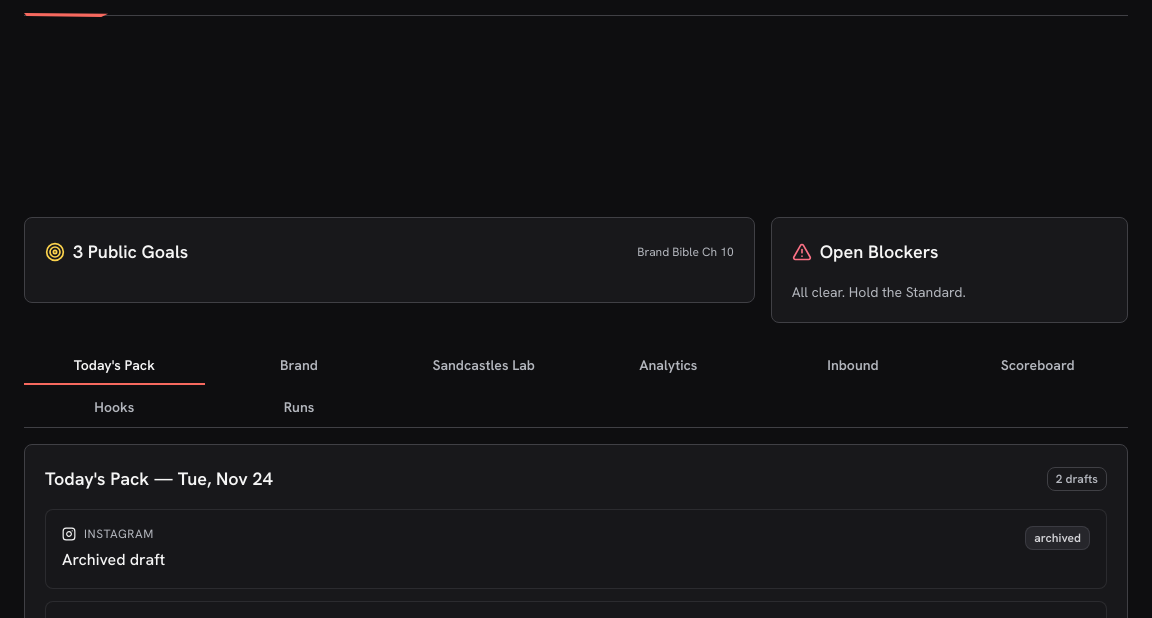
Test: automation dashboard recovery and empty states › labels archived drafts accurately and supports the current awaiting-approval state in the detail dialog
Expected: the text "archived" is shown, left=1025, top=526, right=1090, bottom=550
Click the text "Archived draft" at (114, 559), box left=62, top=548, right=165, bottom=570
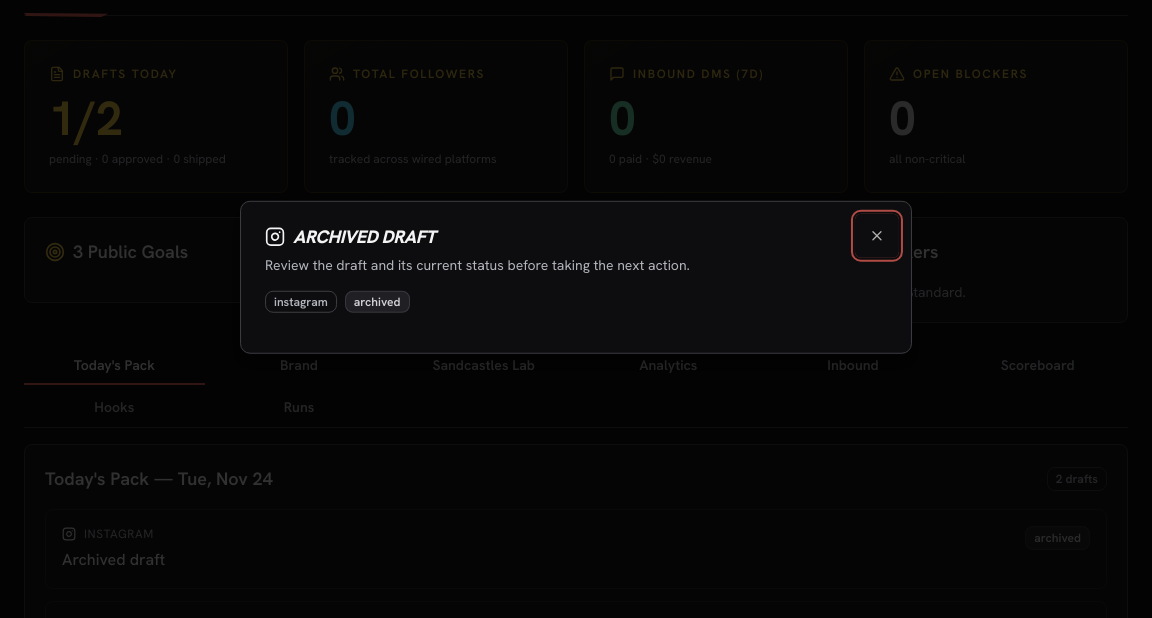
Press Escape
(page scrolled)
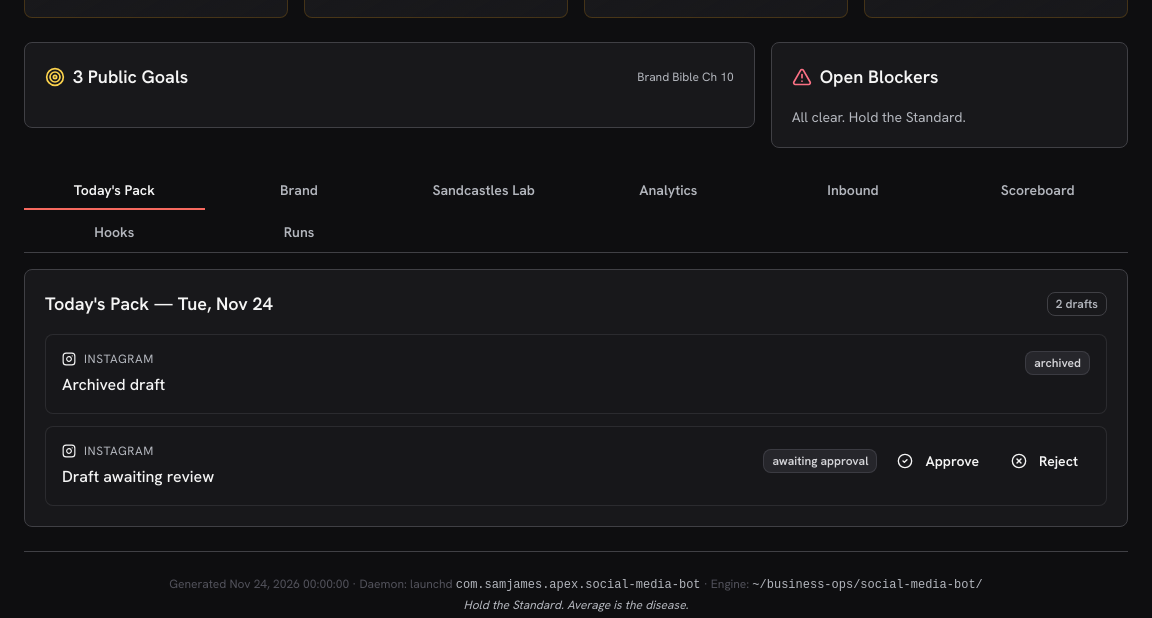
Click the text "Draft awaiting review" at (138, 476), box left=62, top=466, right=214, bottom=486
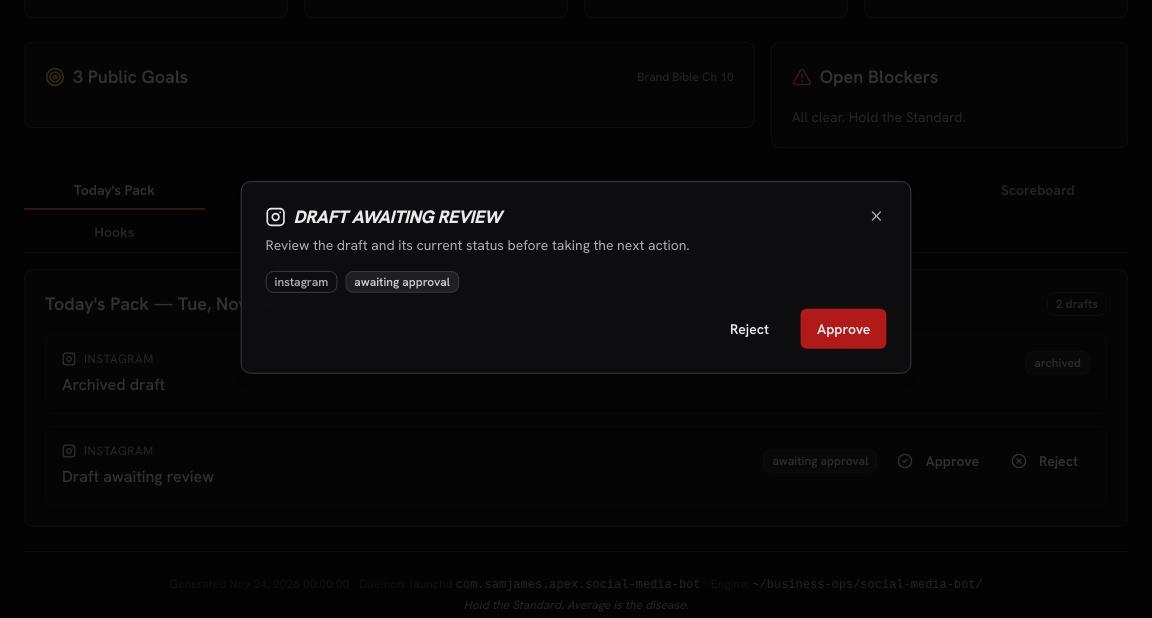
Result: the button "Approve" is shown at left=801, top=308, right=887, bottom=348
Result: the button "Reject" is shown at left=714, top=308, right=785, bottom=348
